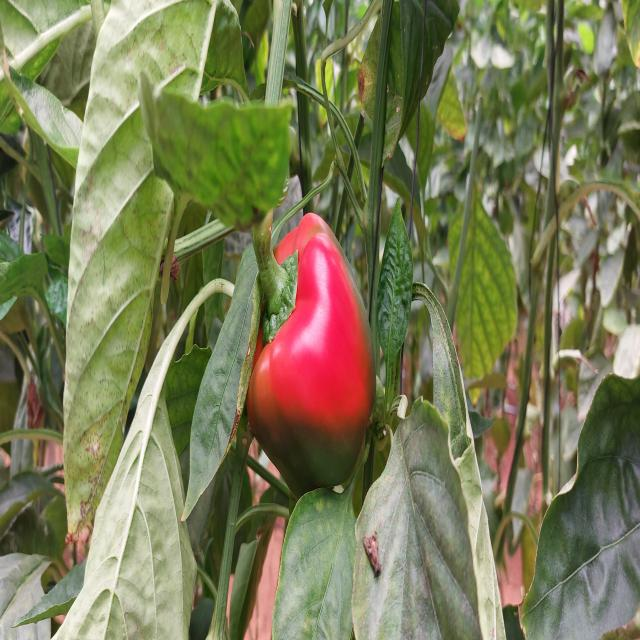BrownishRed--Can-be-Harvested: (245, 244, 382, 493)
